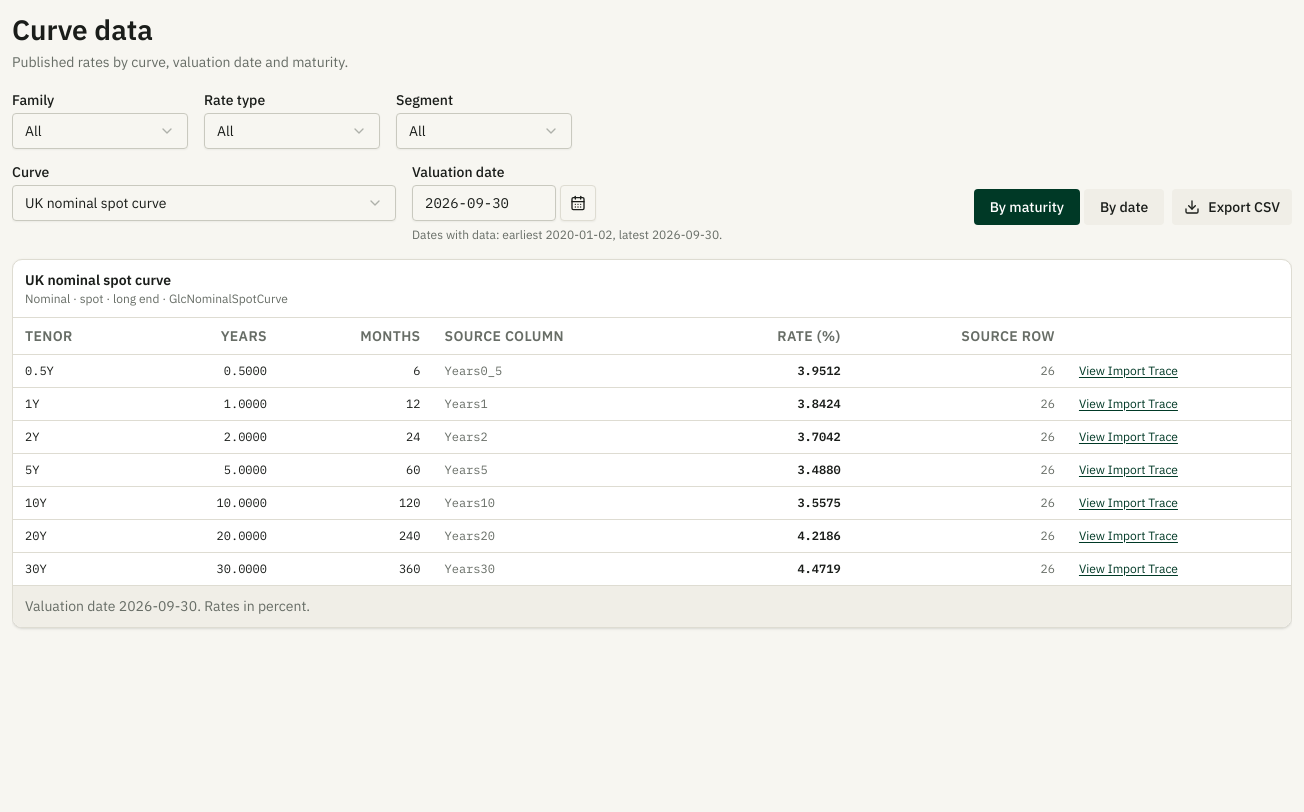
Scenario: Epic curve-data, Story 4: export rates as CSV › shows the brief confirmation "CSV export prepared." after a successful export and saves the CSV
Click the button "Export CSV" at (1232, 207), box x1=1172 y1=189 x2=1292 y2=225
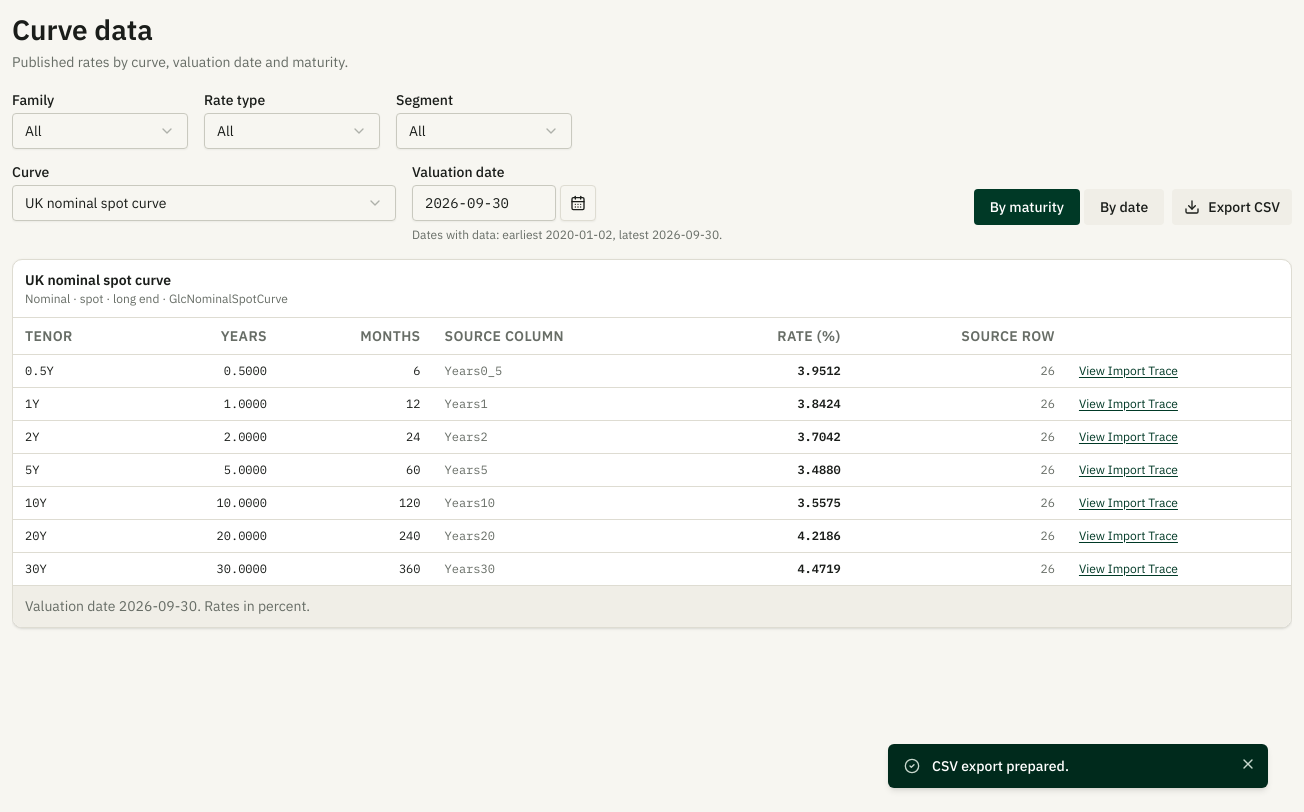
Expected: the message reads "CSV export prepared.", x1=932 y1=757 x2=1069 y2=775
